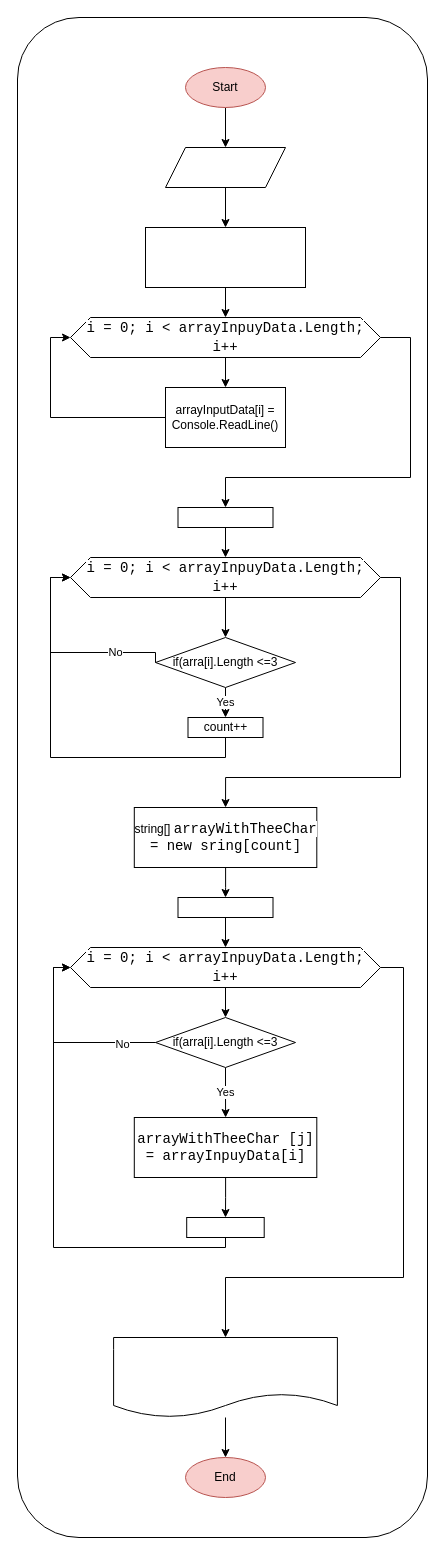
Image size: 445x1555. Some labels were removed from this diagram. Here are the shapes that lost their labels. From the top down, the centre of each, then its label:
point 225,167: n = array.Length
point 225,257: string[] arrayInpuyData = new sring[n]
point 225,517: int count = 0
point 225,907: int j = 0
point 225,1227: j++
point 225,1377: Print( arrayWithTheeChar )
